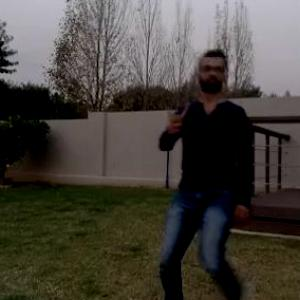takeoff-hand: (156, 95, 190, 135)
